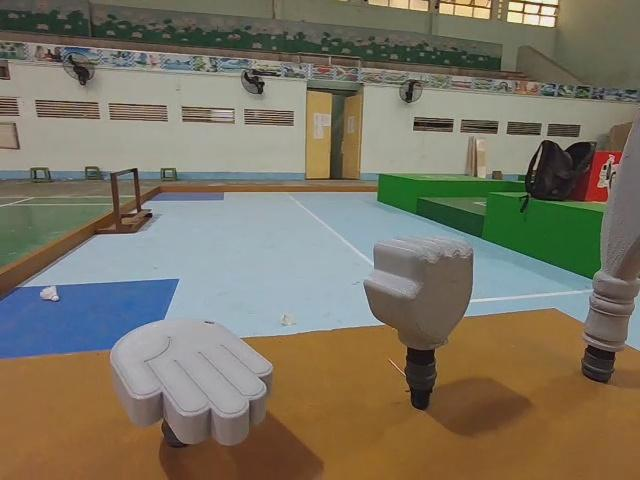Fist: (362, 234, 477, 413)
Hand: (111, 313, 282, 455)
Sph: (572, 94, 640, 384)
